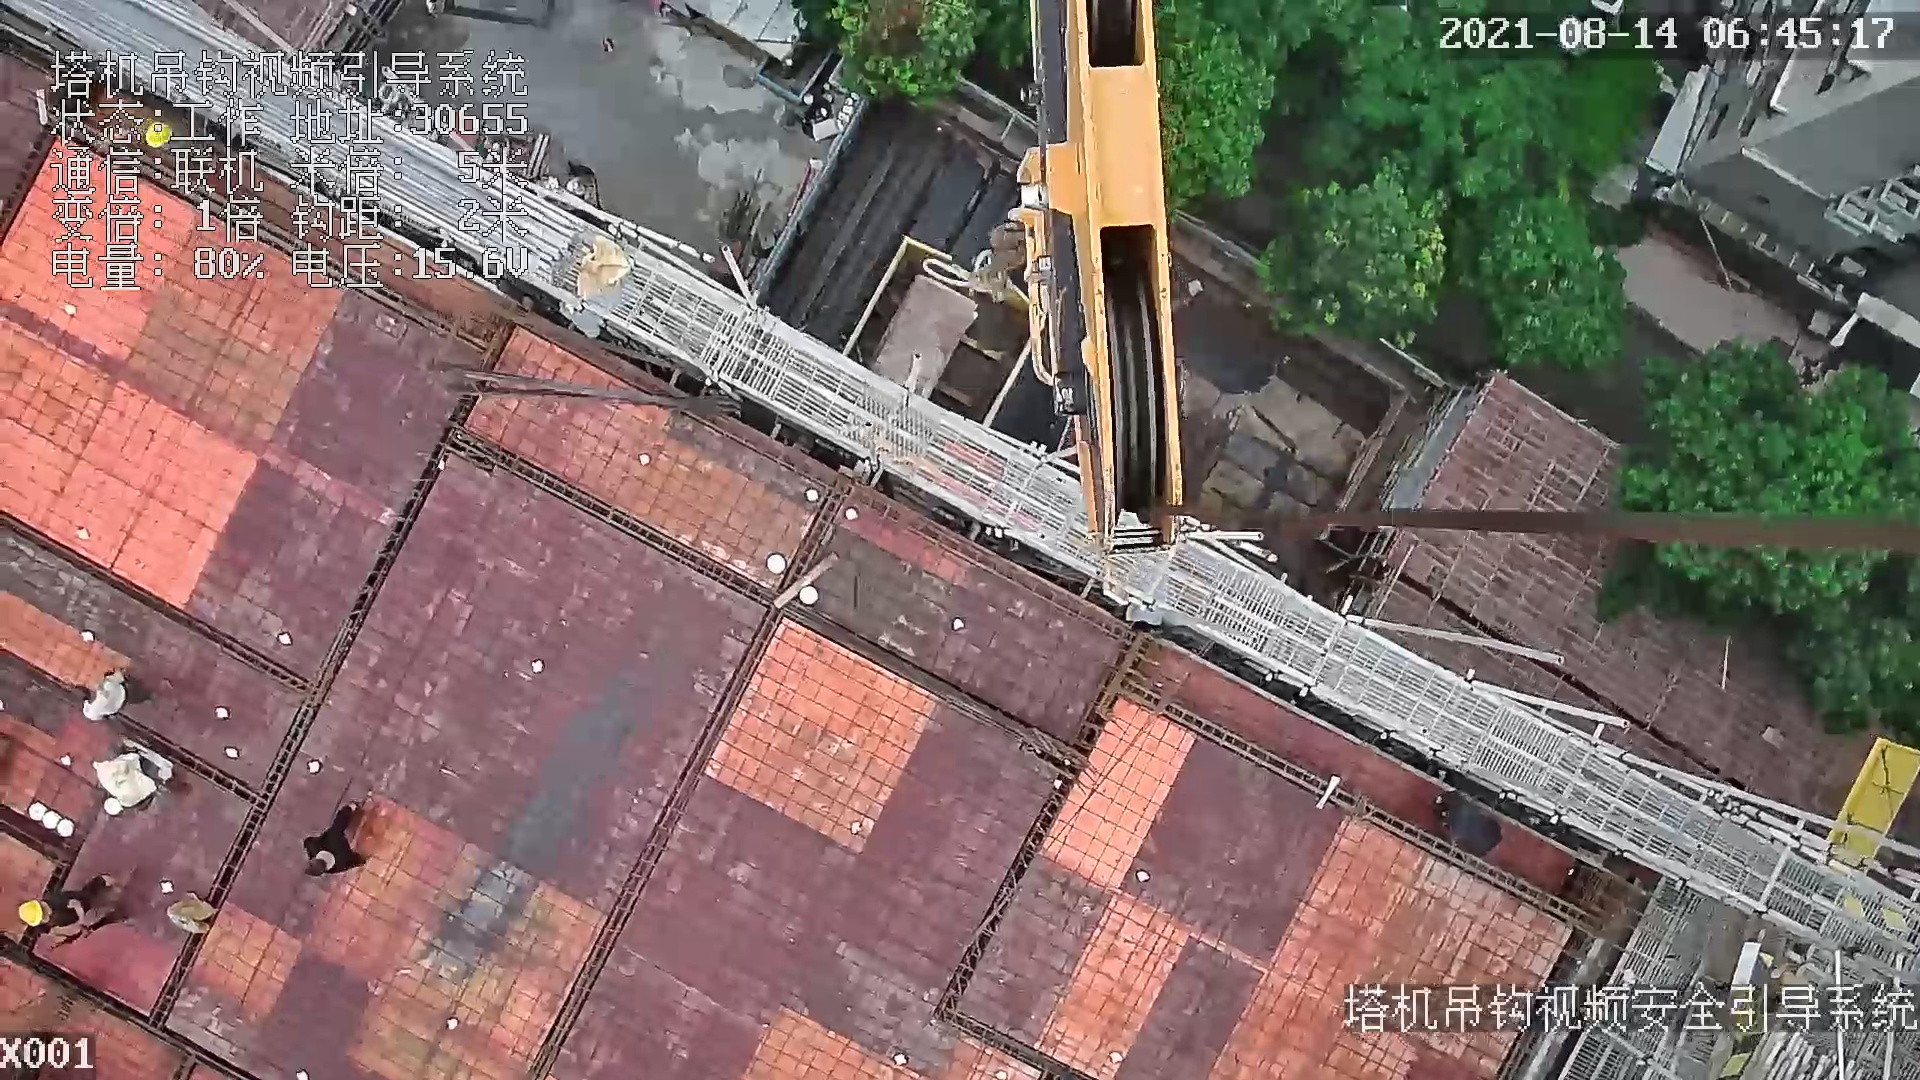helmet: (144, 120, 173, 148), (19, 900, 43, 923)
hook: (979, 1, 1188, 549)
person: (13, 868, 126, 941), (1433, 783, 1512, 856), (313, 804, 370, 886), (70, 667, 144, 727)
